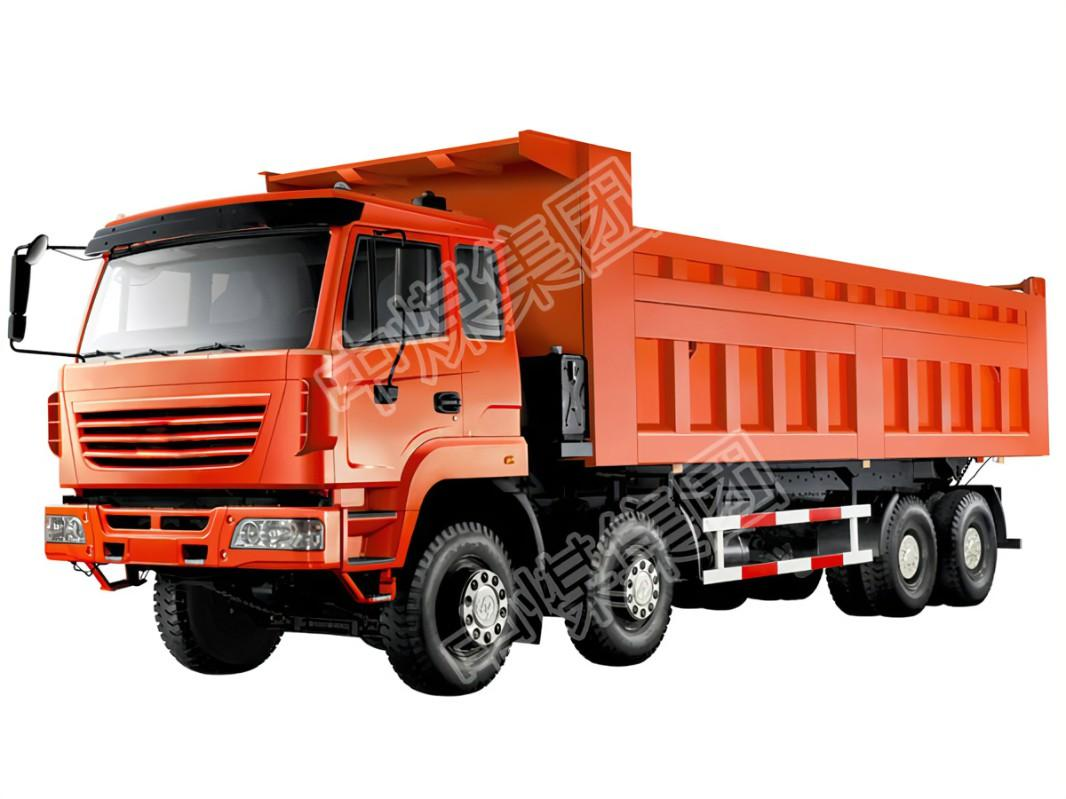truck: (15, 117, 1066, 705)
